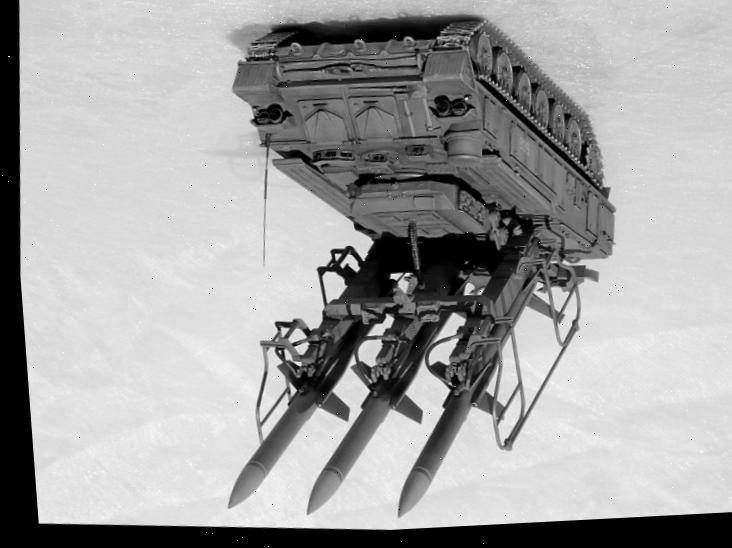armored_car: (186, 0, 659, 538)
